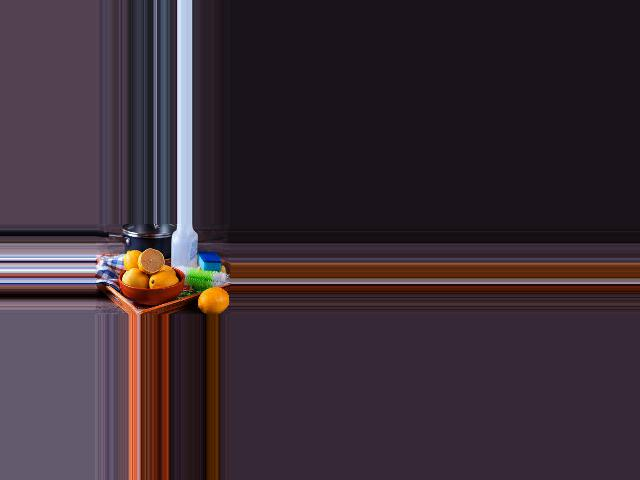lemon: (196, 287, 229, 314)
